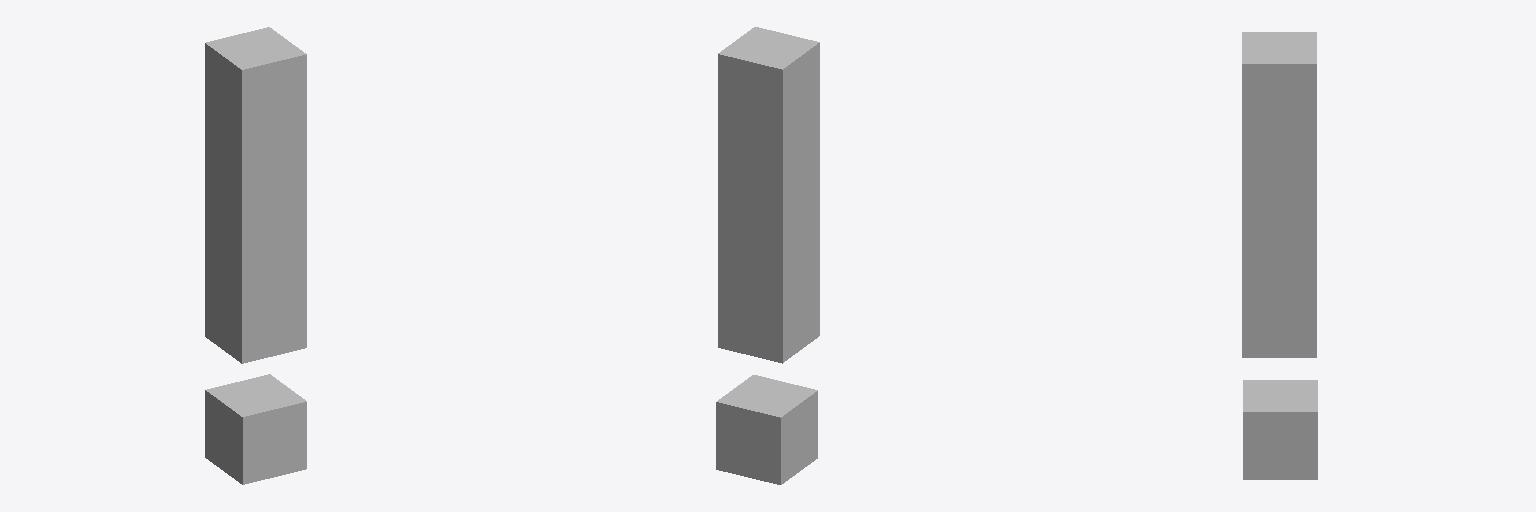
Rendered from emo1.obj.
3 views of the same model, side by side, from view 1: azimuth 30°, elevation 25°; view 2: azimuth 150°, elevation 25°; view 3: azimuth 270°, elevation 25° (orthographic).
Visible parts, largest first — view 1: Cube.001_Cube.002; view 2: Cube.001_Cube.002; view 3: Cube.001_Cube.002.
Boxes of the visible parts, <box> form: Cube.001_Cube.002: <box>205,27,306,484</box>; Cube.001_Cube.002: <box>716,27,819,484</box>; Cube.001_Cube.002: <box>1242,32,1317,479</box>.
Size of the model in its own units: 0.6098 by 3.68 by 0.6092.